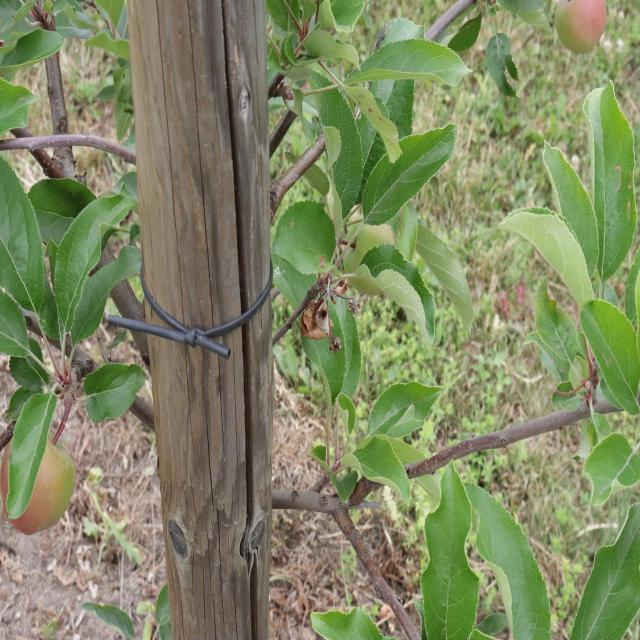-FireBlight-: (298, 290, 336, 343)
